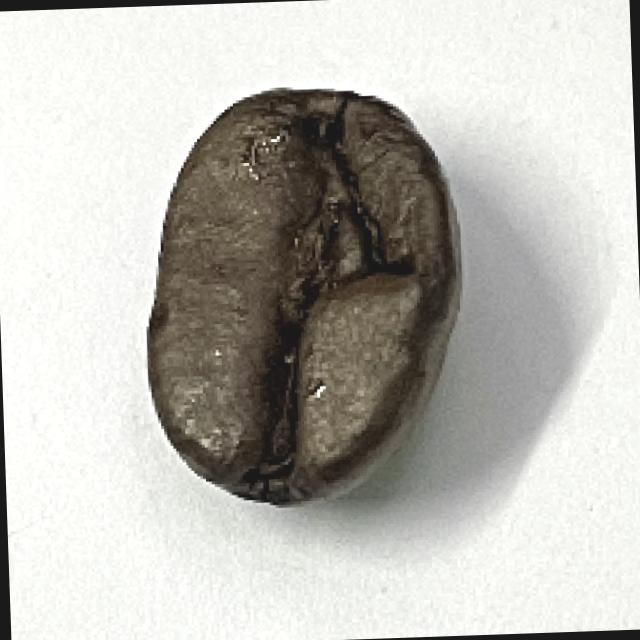bean: (98, 68, 526, 543)
